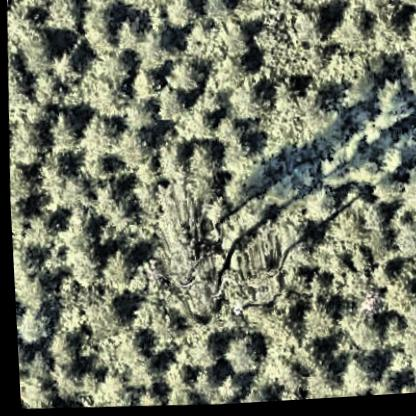tree-top: (12, 24, 64, 77), (90, 245, 138, 295), (73, 111, 117, 162), (47, 174, 97, 218), (157, 53, 203, 99), (85, 77, 129, 125), (333, 357, 380, 401), (11, 261, 53, 310), (202, 56, 247, 101), (168, 104, 212, 149), (110, 123, 157, 165), (91, 47, 134, 92), (115, 99, 160, 142), (334, 7, 372, 57), (40, 331, 85, 372), (262, 76, 303, 121), (81, 4, 120, 51), (288, 6, 326, 53), (153, 79, 191, 126), (134, 27, 173, 72), (10, 116, 42, 170), (290, 305, 330, 348), (45, 48, 86, 88), (352, 202, 392, 243), (374, 85, 416, 124), (300, 80, 339, 121), (12, 302, 48, 345), (377, 282, 416, 321), (184, 335, 222, 375), (8, 175, 40, 222), (222, 330, 255, 375), (45, 113, 82, 152), (22, 216, 58, 256), (182, 143, 215, 186), (207, 114, 243, 153), (64, 210, 100, 249), (368, 318, 405, 355), (15, 374, 52, 410), (112, 331, 148, 368), (166, 0, 204, 34), (386, 223, 416, 266), (214, 178, 251, 212), (88, 304, 121, 342), (221, 25, 252, 65), (121, 360, 159, 392), (208, 375, 241, 407), (302, 189, 334, 222), (281, 225, 315, 256), (202, 0, 240, 22)
